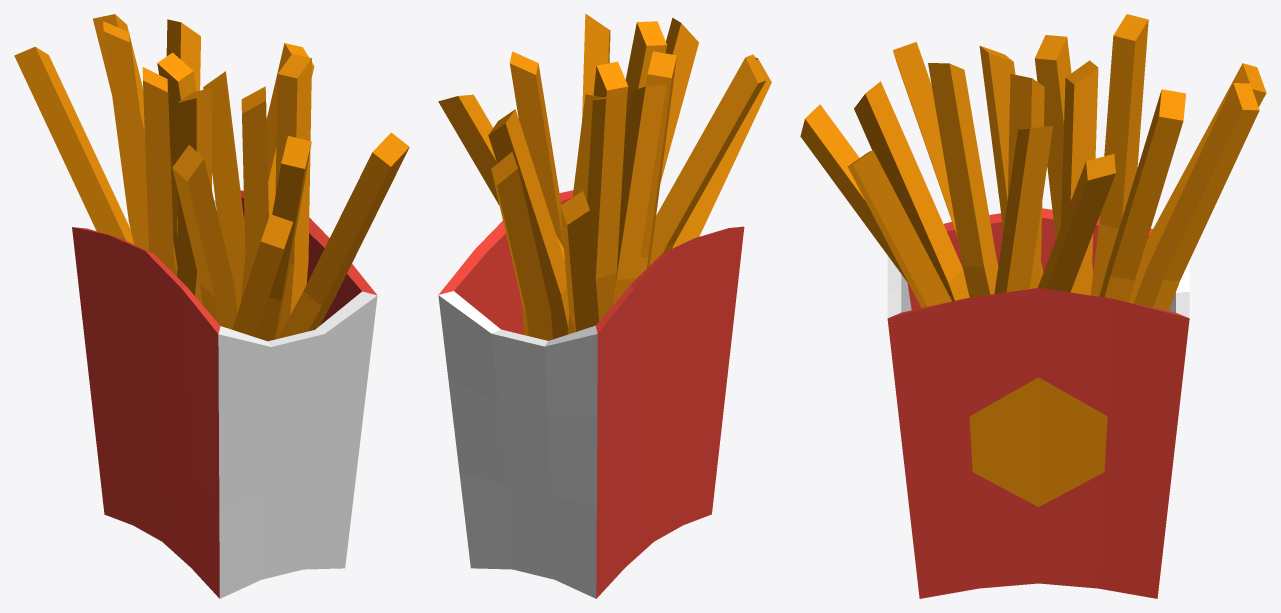
File: French_Fries_01.obj
3 renders of one model, left to right at view 1: azimuth 30°, elevation 25°; view 2: azimuth 150°, elevation 25°; view 3: azimuth 270°, elevation 25°, orthographic. The views are drawn at different scales.
Visible parts, largest first — view 1: Plane; view 2: Plane; view 3: Plane.
Part boxes in pixels (x1=…): Plane: x1=14, y1=14, x2=409, y2=598; Plane: x1=438, y1=14, x2=771, y2=598; Plane: x1=800, y1=14, x2=1266, y2=598.
Bounding box in the file's own units: 4.73 × 10.02 × 8.23.
